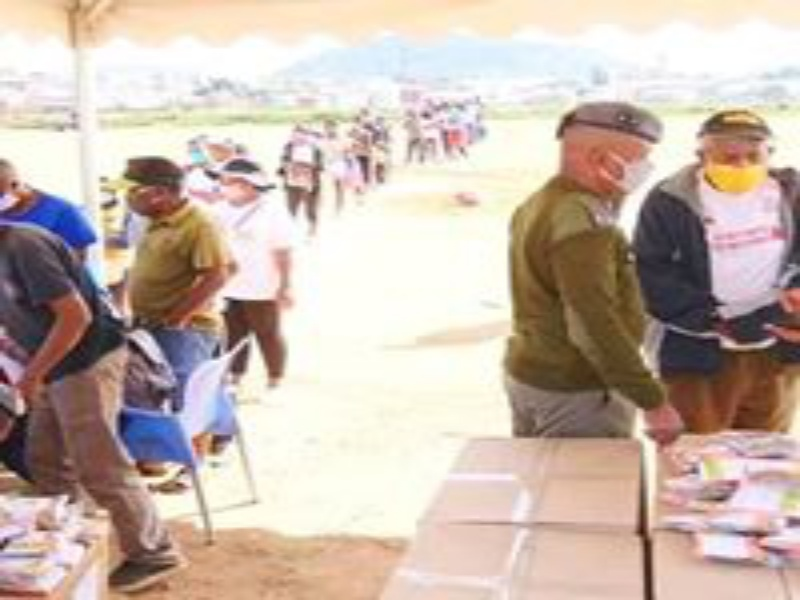ManaoArotava: (692, 105, 782, 209)
